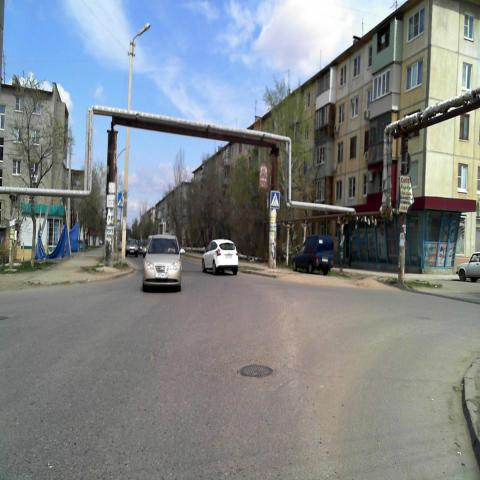5_19_1: (270, 191, 280, 210), (118, 192, 124, 208)
